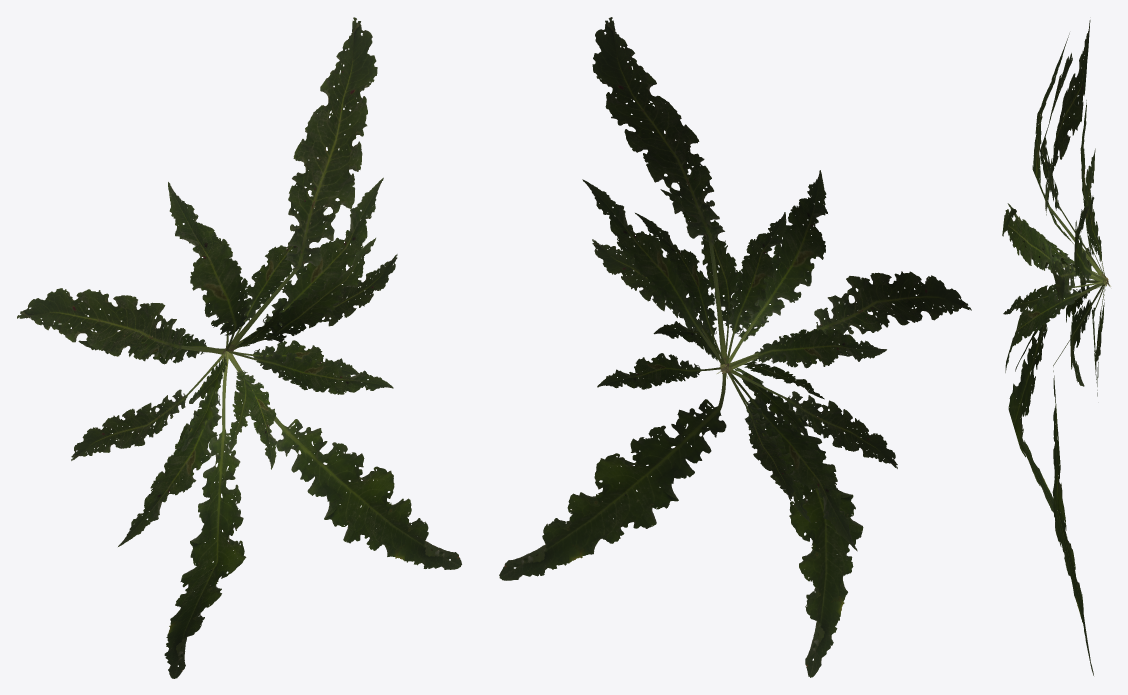
File: Weed_03_Var3_LOD1.fbx
3 views of the same model, side by side, from view 1: azimuth 30°, elevation 25°; view 2: azimuth 150°, elevation 25°; view 3: azimuth 270°, elevation 25° (orthographic). The views are drawn at different scales.
Visible parts, largest first — view 1: Var3_LOD1; view 2: Var3_LOD1; view 3: Var3_LOD1.
Part boxes in pixels (bbox=[...]): Var3_LOD1: bbox=[17, 17, 461, 678]; Var3_LOD1: bbox=[499, 17, 971, 677]; Var3_LOD1: bbox=[1002, 20, 1110, 675].
Bounding box in the file's own units: 56.73 × 72.16 × 11.39.
